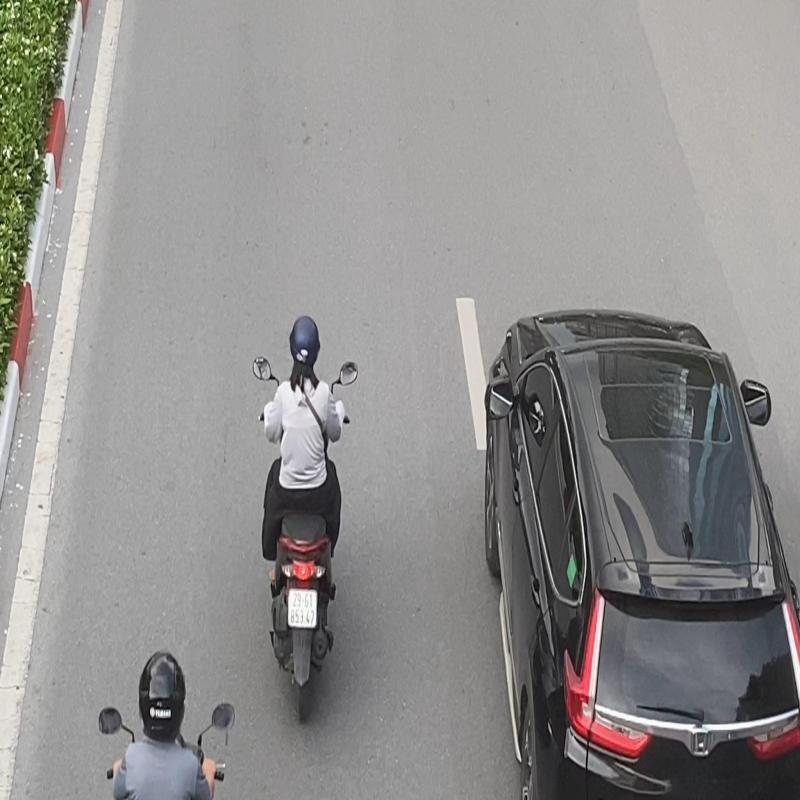helmet: (291, 316, 320, 366)
licenseplate: (288, 589, 316, 630)
motorcyclist: (252, 312, 360, 722)
